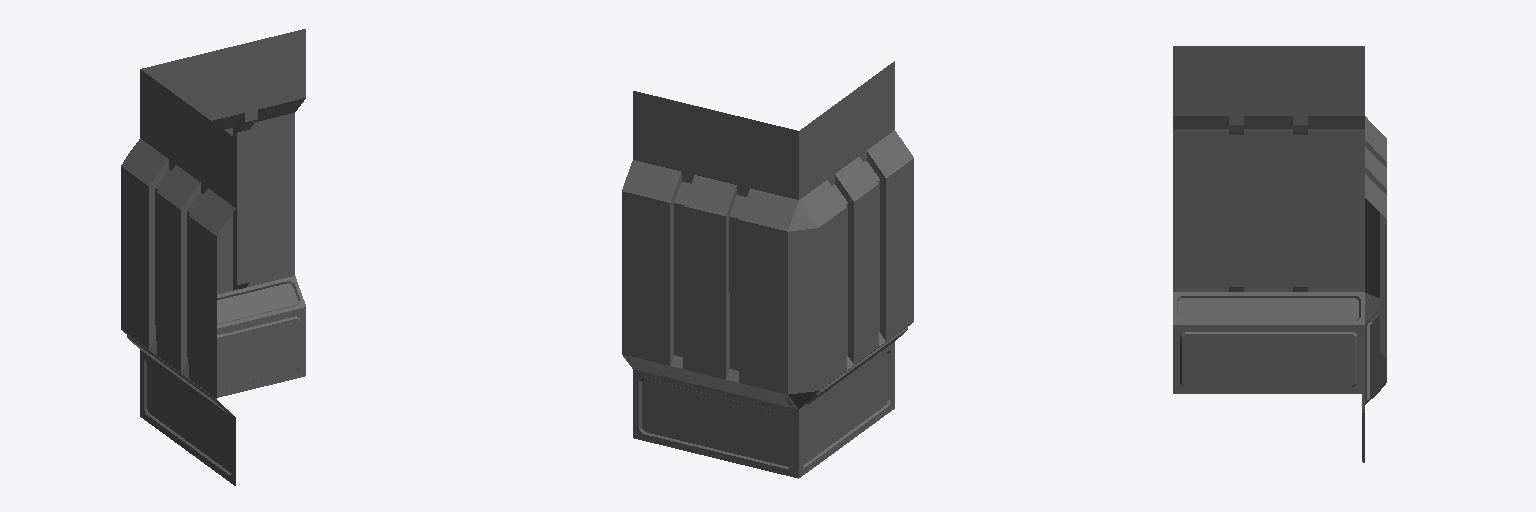
File: WallCornerIn01_LP.obj
The picture shows the model from 3 angles: view 1: azimuth 30°, elevation 25°; view 2: azimuth 150°, elevation 25°; view 3: azimuth 270°, elevation 25°; orthographic projection.
Parts seen in each view (by area): view 1: Plane001; view 2: Plane001; view 3: Plane001.
Part boxes in pixels (x1,y1,x2,y2): Plane001: (121,29,305,485); Plane001: (622,61,913,478); Plane001: (1173,46,1386,462).
Bounding box in the file's own units: 286 × 512 × 286.